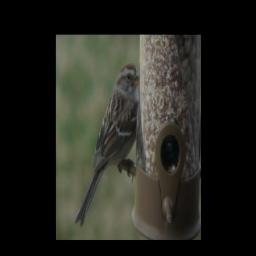Sparrow: (74, 61, 139, 227)
